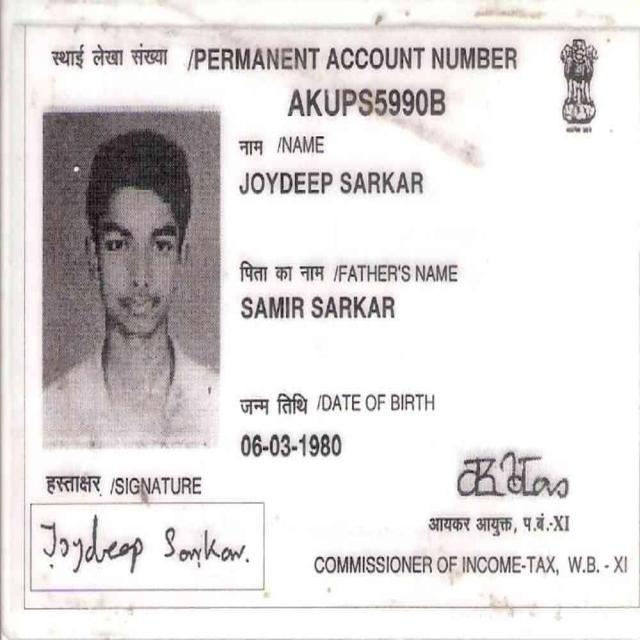pan_card: (21, 25, 640, 610)
